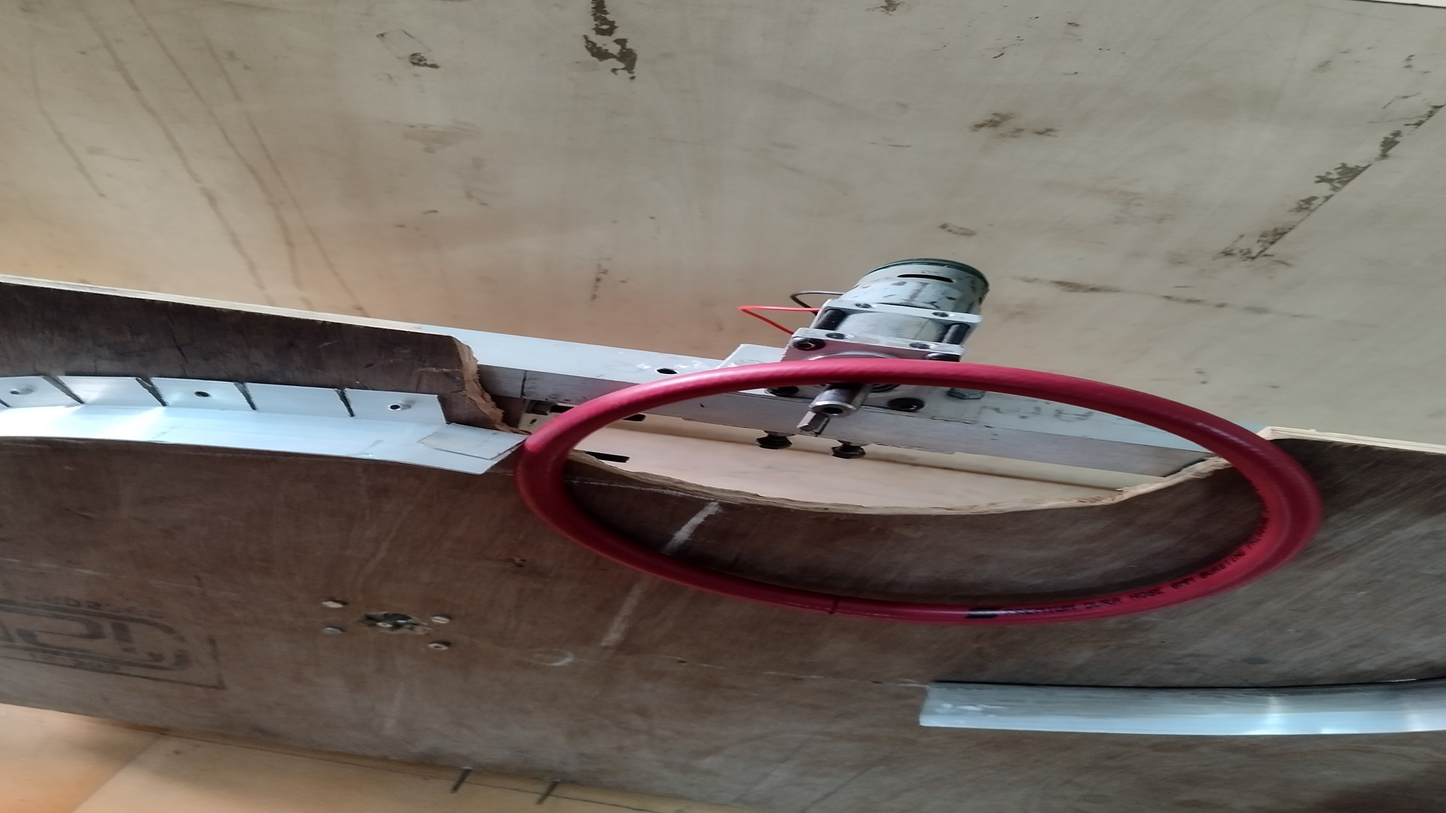Red ring: (514, 364, 1316, 631)
